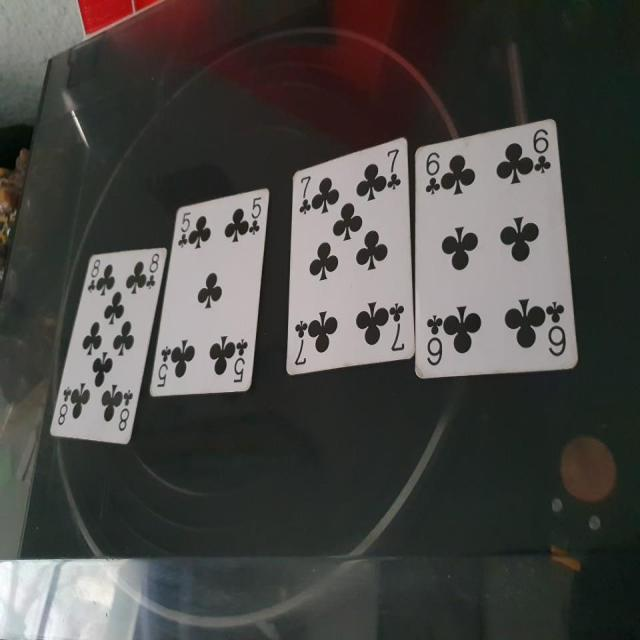5 Trefoils: (150, 180, 271, 397)
6 Trefoils: (414, 114, 581, 378)
7 Trefoils: (284, 138, 417, 373)
8 Trefoils: (47, 247, 168, 446)
